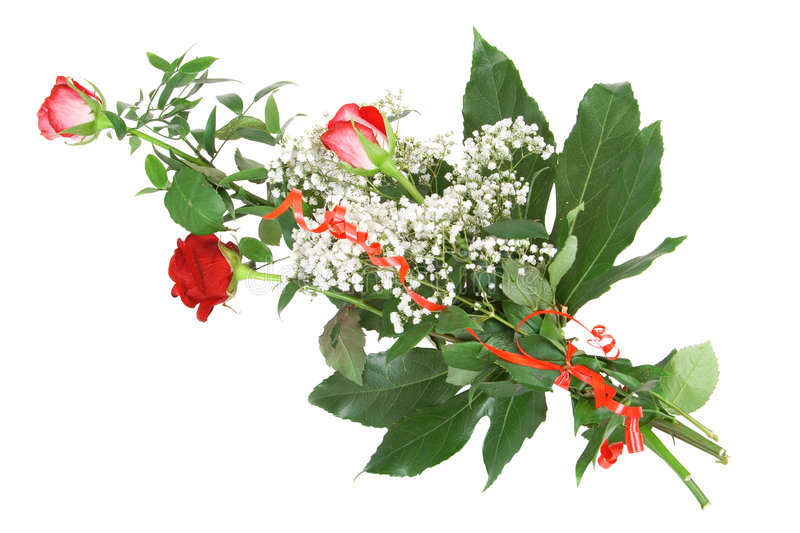RedRose: (160, 221, 256, 325)
